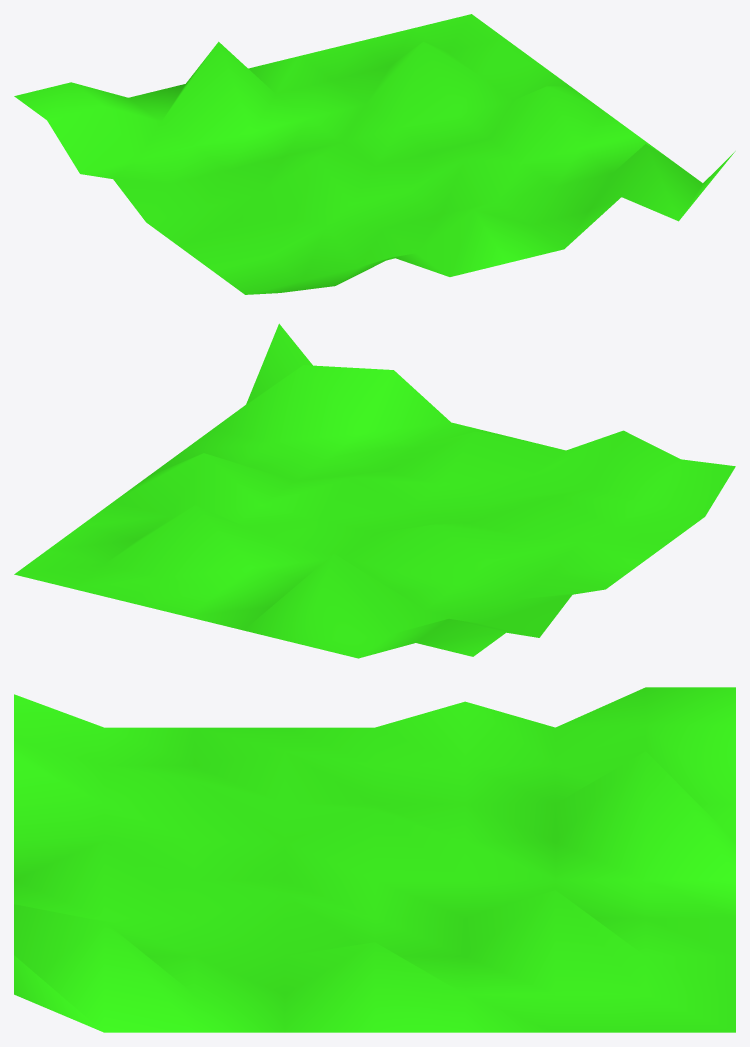
File: Floor.FBX
3 renders of one model, top to bottom at view 1: azimuth 30°, elevation 25°; view 2: azimuth 150°, elevation 25°; view 3: azimuth 270°, elevation 25°, orthographic. The views are drawn at different scales.
Parts seen in each view (by area): view 1: Plane001; view 2: Plane001; view 3: Plane001.
Boxes of the visible parts, <box> form: Plane001: <box>14,14,735,294</box>; Plane001: <box>14,323,735,658</box>; Plane001: <box>14,687,735,1032</box>.
Size of the model in its own units: 50 by 6.93 by 50.
